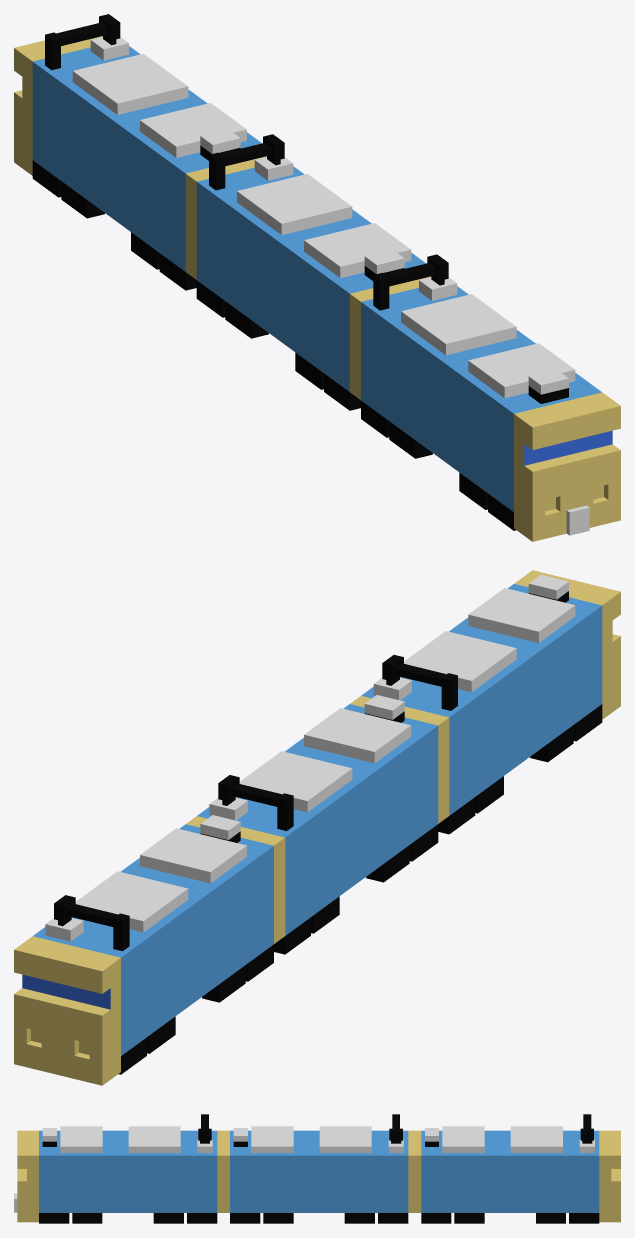
File: DesignTrainGüncel.fbx
3 renders of one model, top to bottom at view 1: azimuth 30°, elevation 25°; view 2: azimuth 150°, elevation 25°; view 3: azimuth 270°, elevation 25°, orthographic. The views are drawn at different scales.
Parts seen in each view (by area): view 1: Plane.001, Plane.010, Plane.016, Plane.007, Plane.017, Plane.002, Plane.011, Plane.012, Plane.003, Plane.018, Plane.022, Cube.002 (+10 smaller); view 2: Plane.016, Plane.010, Plane.001, Plane.022, Plane.012, Plane.003, Plane.018, Plane.011, Plane.017, Plane.002, Plane.007, Cube.002 (+10 smaller); view 3: Plane.001, Plane.010, Plane.016, Plane.007, Plane.022, Plane.002, Plane.011, Plane.017, Cube.001, Cube.002, Cube.003, Plane.003 (+13 smaller).
Part boxes in pixels (x1,y1,x2,y2): Plane.001: (361,286,601,511); Plane.010: (196,166,425,391); Plane.016: (32,46,261,271); Plane.007: (514,392,620,541); Plane.017: (72,53,188,114); Plane.002: (401,294,516,355); Plane.011: (237,174,352,234); Plane.012: (304,223,411,278); Plane.003: (468,343,575,398); Plane.018: (140,103,246,157); Plane.022: (14,36,102,175); Cube.002: (196,280,360,410); Plane.016: (33,824,273,1055); Plane.010: (197,704,438,935); Plane.001: (361,584,602,815); Plane.022: (14,936,120,1085); Plane.012: (304,708,411,763); Plane.003: (468,588,575,642); Plane.018: (140,828,246,883); Plane.011: (239,751,352,812); Plane.017: (75,871,188,932); Plane.002: (404,631,516,692); Plane.007: (514,570,620,719); Cube.002: (274,824,438,954); Plane.001: (39,1130,217,1212); Plane.010: (230,1130,408,1212); Plane.016: (421,1130,599,1212); Plane.007: (17,1130,38,1222); Plane.022: (599,1130,620,1222); Plane.002: (128,1126,180,1152); Plane.011: (319,1126,371,1152); Plane.017: (510,1126,562,1152); Cube.001: (39,1213,217,1223); Cube.002: (230,1213,408,1223); Cube.003: (421,1213,599,1223); Plane.003: (60,1126,102,1152).
Size of the model in its own units: 100 by 163 by 1022.
